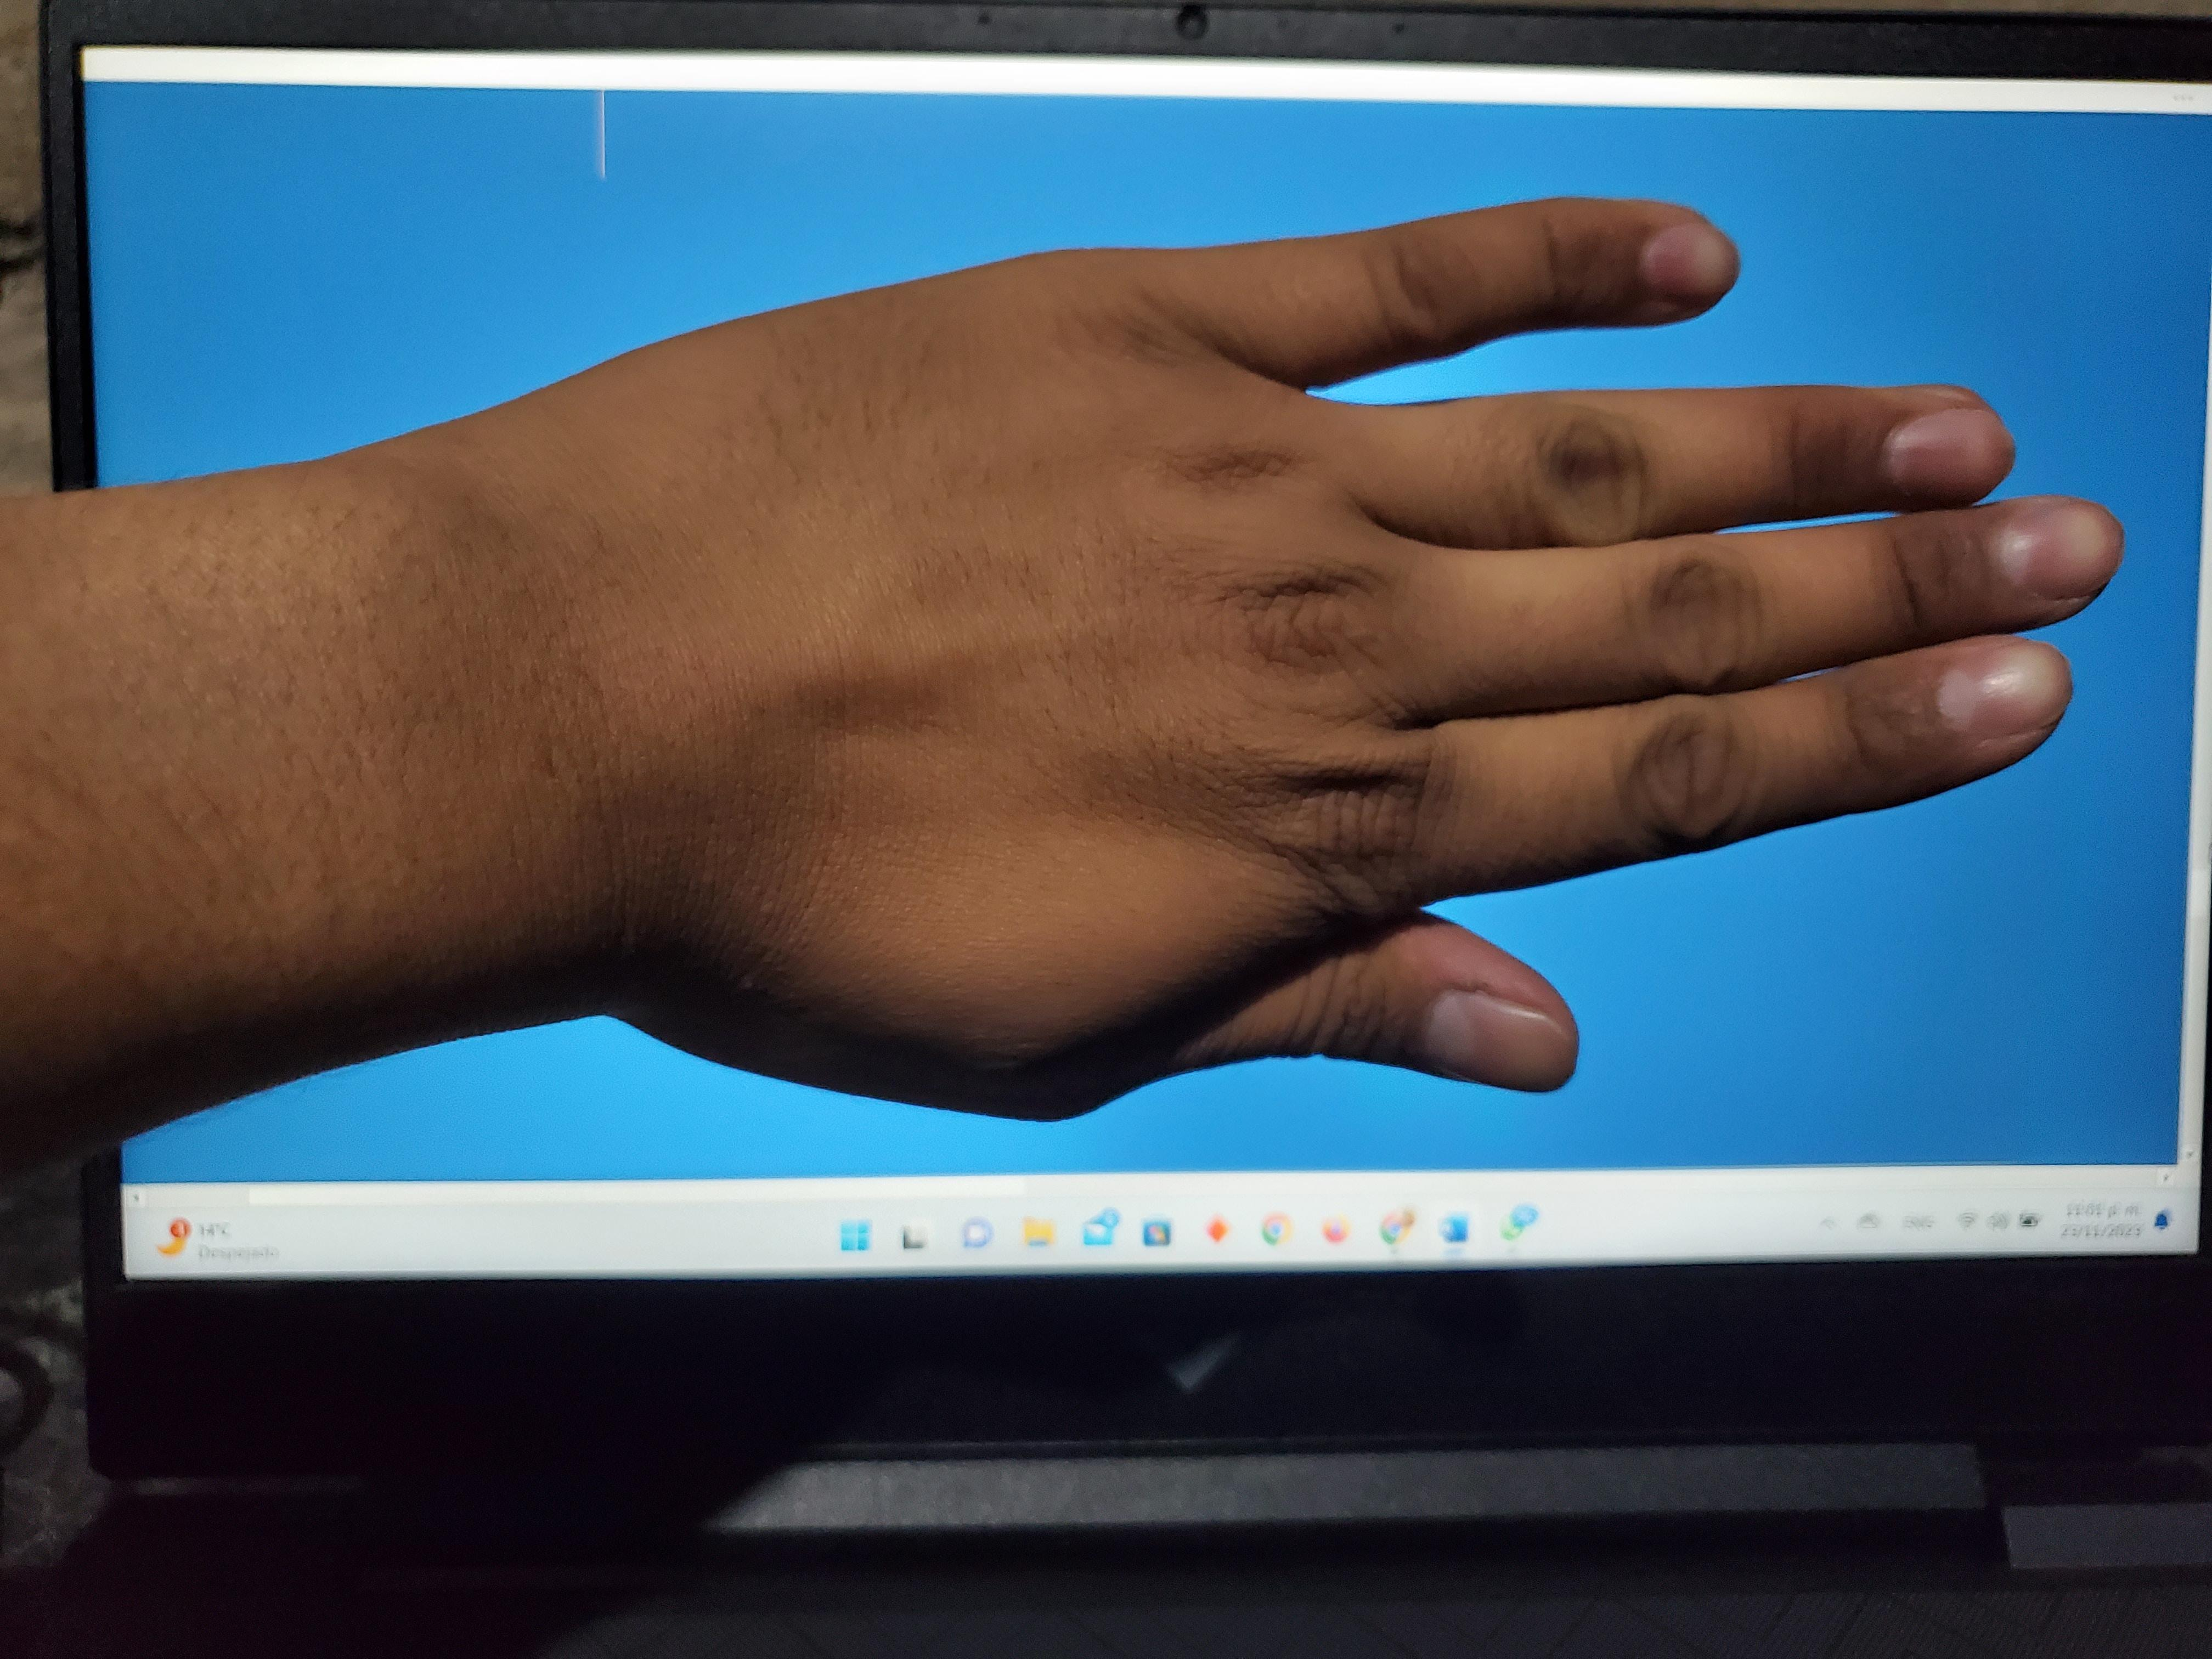Paper: (56, 105, 2195, 1312)
